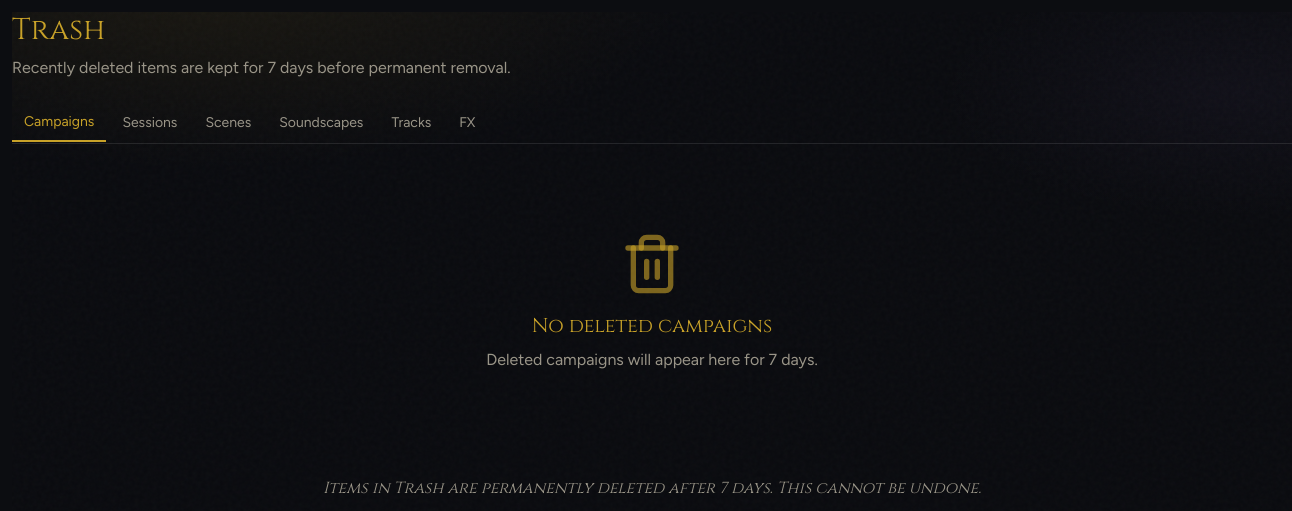
Test: TrashPage › shows per-tab empty state headline
Click the tab "FX": (467, 127) [447,112,488,142]
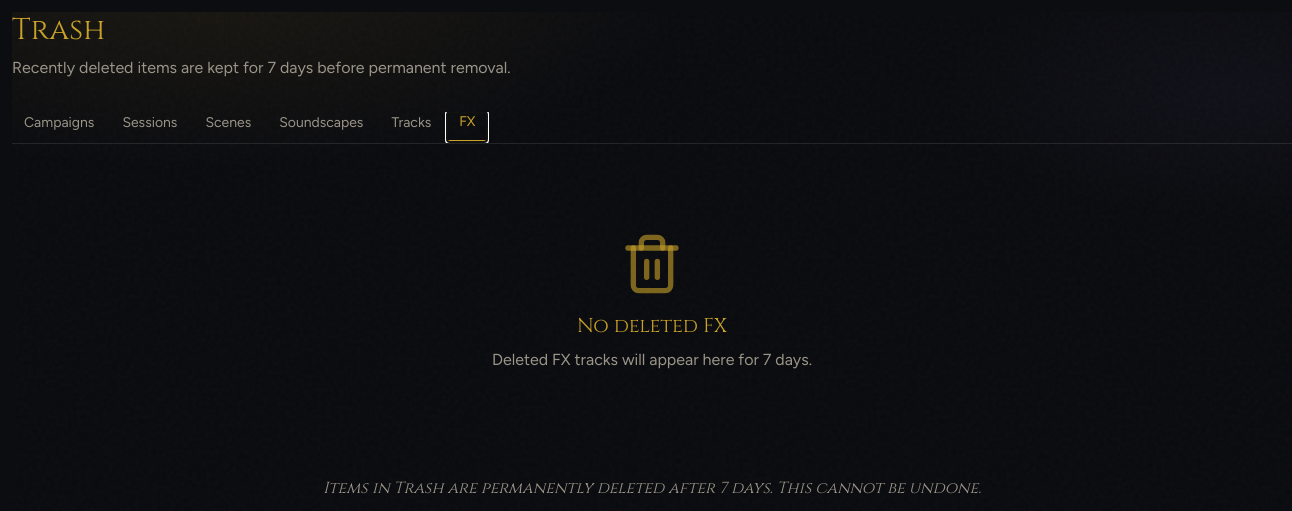
Check: the heading "No deleted FX" is shown, box [577,312,727,340]
Click the tab "Tracks": (411, 127) [379,112,443,142]
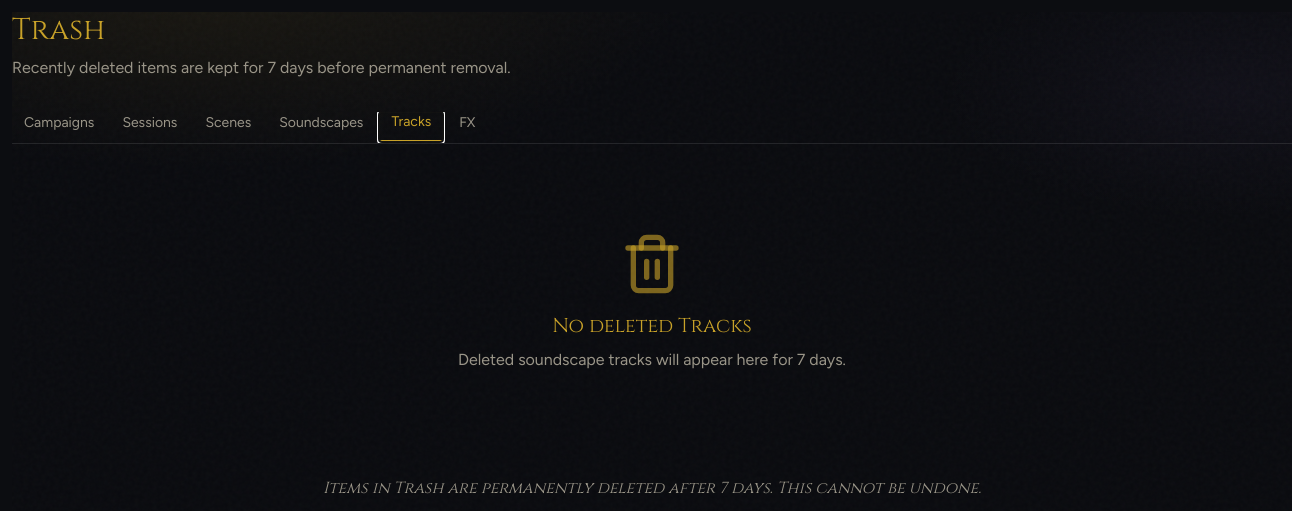
Check: the heading "No deleted Tracks" is shown, box [552,312,752,340]
